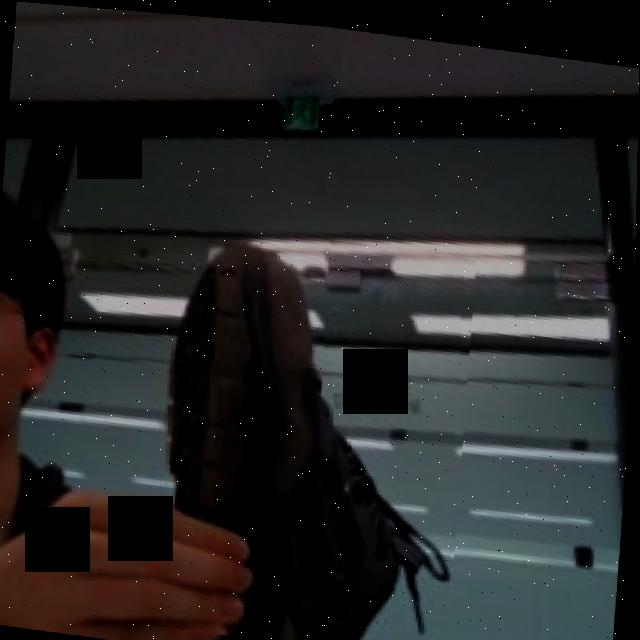shoe: (100, 207, 479, 640)
